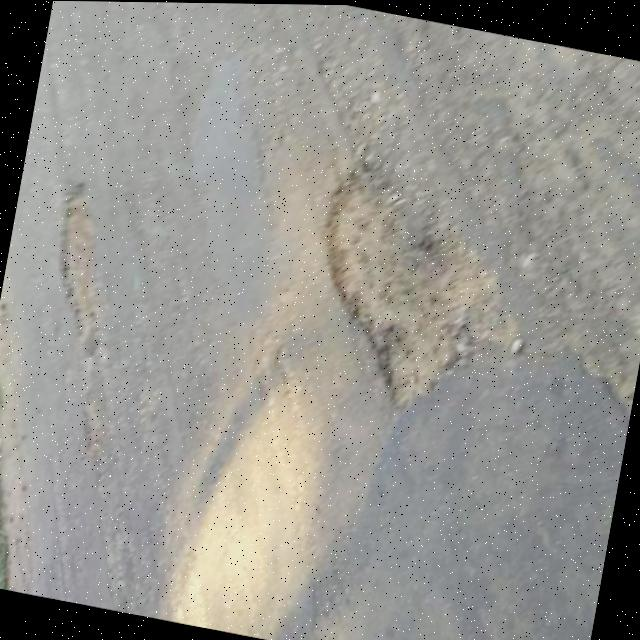Pothole: (284, 150, 524, 434), (34, 175, 120, 347)
